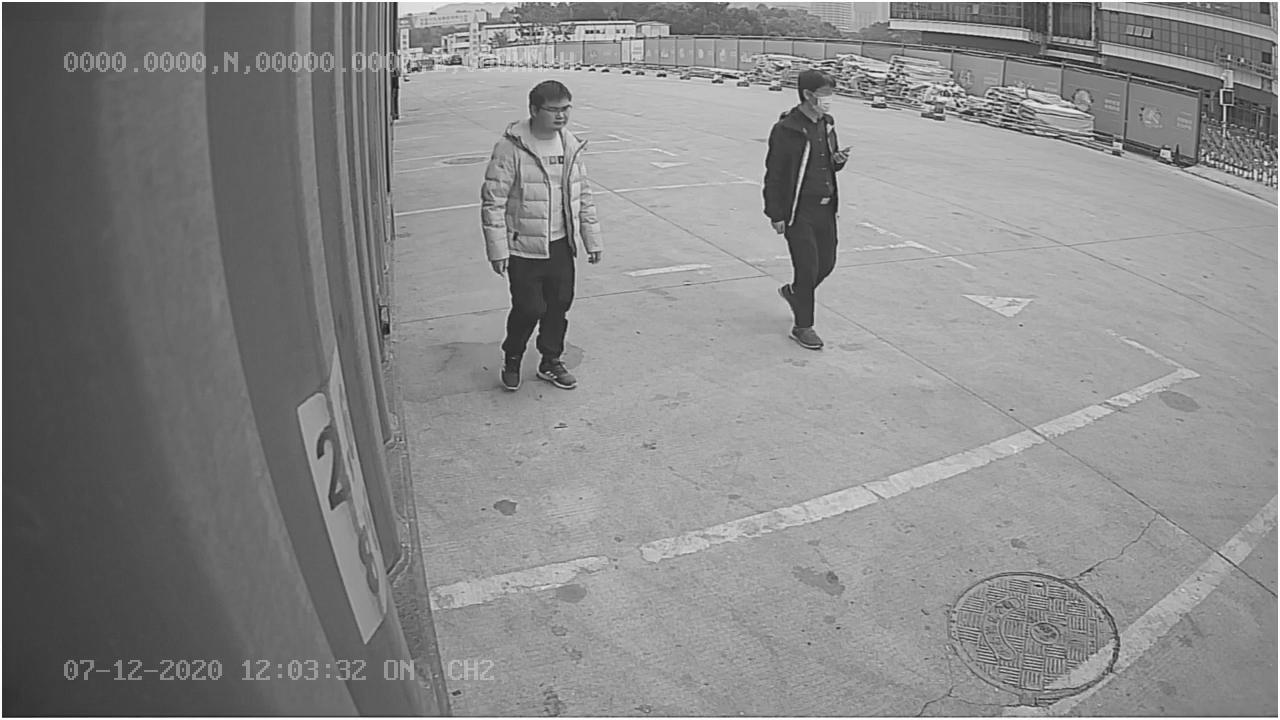person: (471, 76, 609, 395), (756, 64, 857, 358)
